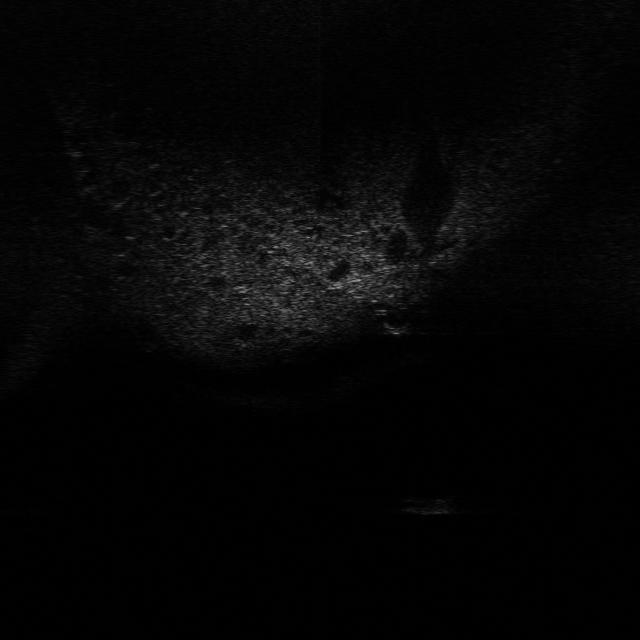ball: (380, 302, 414, 334)
cube: (397, 491, 458, 518)
